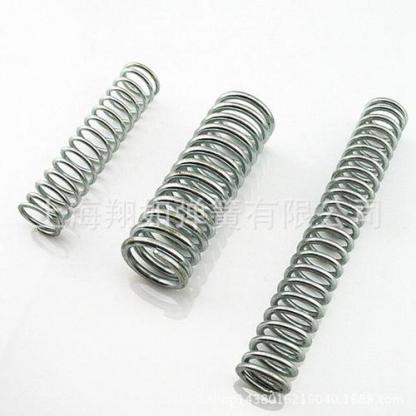FOD: (233, 95, 410, 400), (120, 88, 276, 293), (13, 59, 160, 240)
